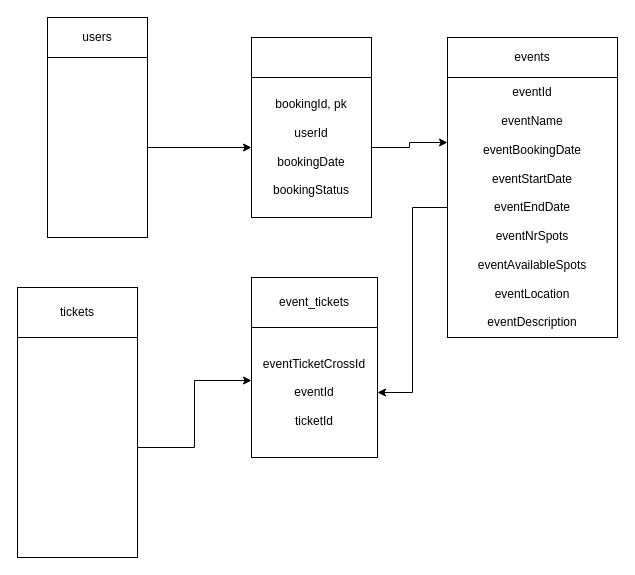
Image size: 635x575. Some labels were removed from this diagram. The shapes that lost their labels are listed below. From the top down, each one's box as (x1, y1, x2, y2) in pixels, then its label:
(250, 36, 372, 78): bookings
(46, 56, 148, 238): userId, pk email phone firstName lastName userStatus
(16, 336, 138, 558): ticketId, pk price currency tixketName ticketStartDate ticketEndDate
